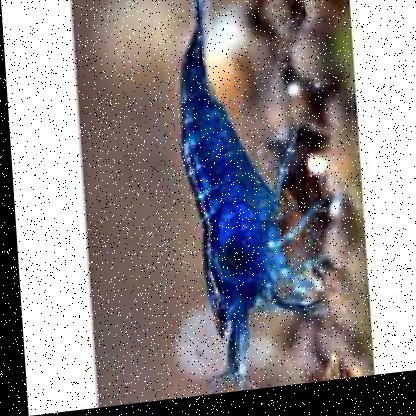shrimp: (166, 0, 324, 392)
